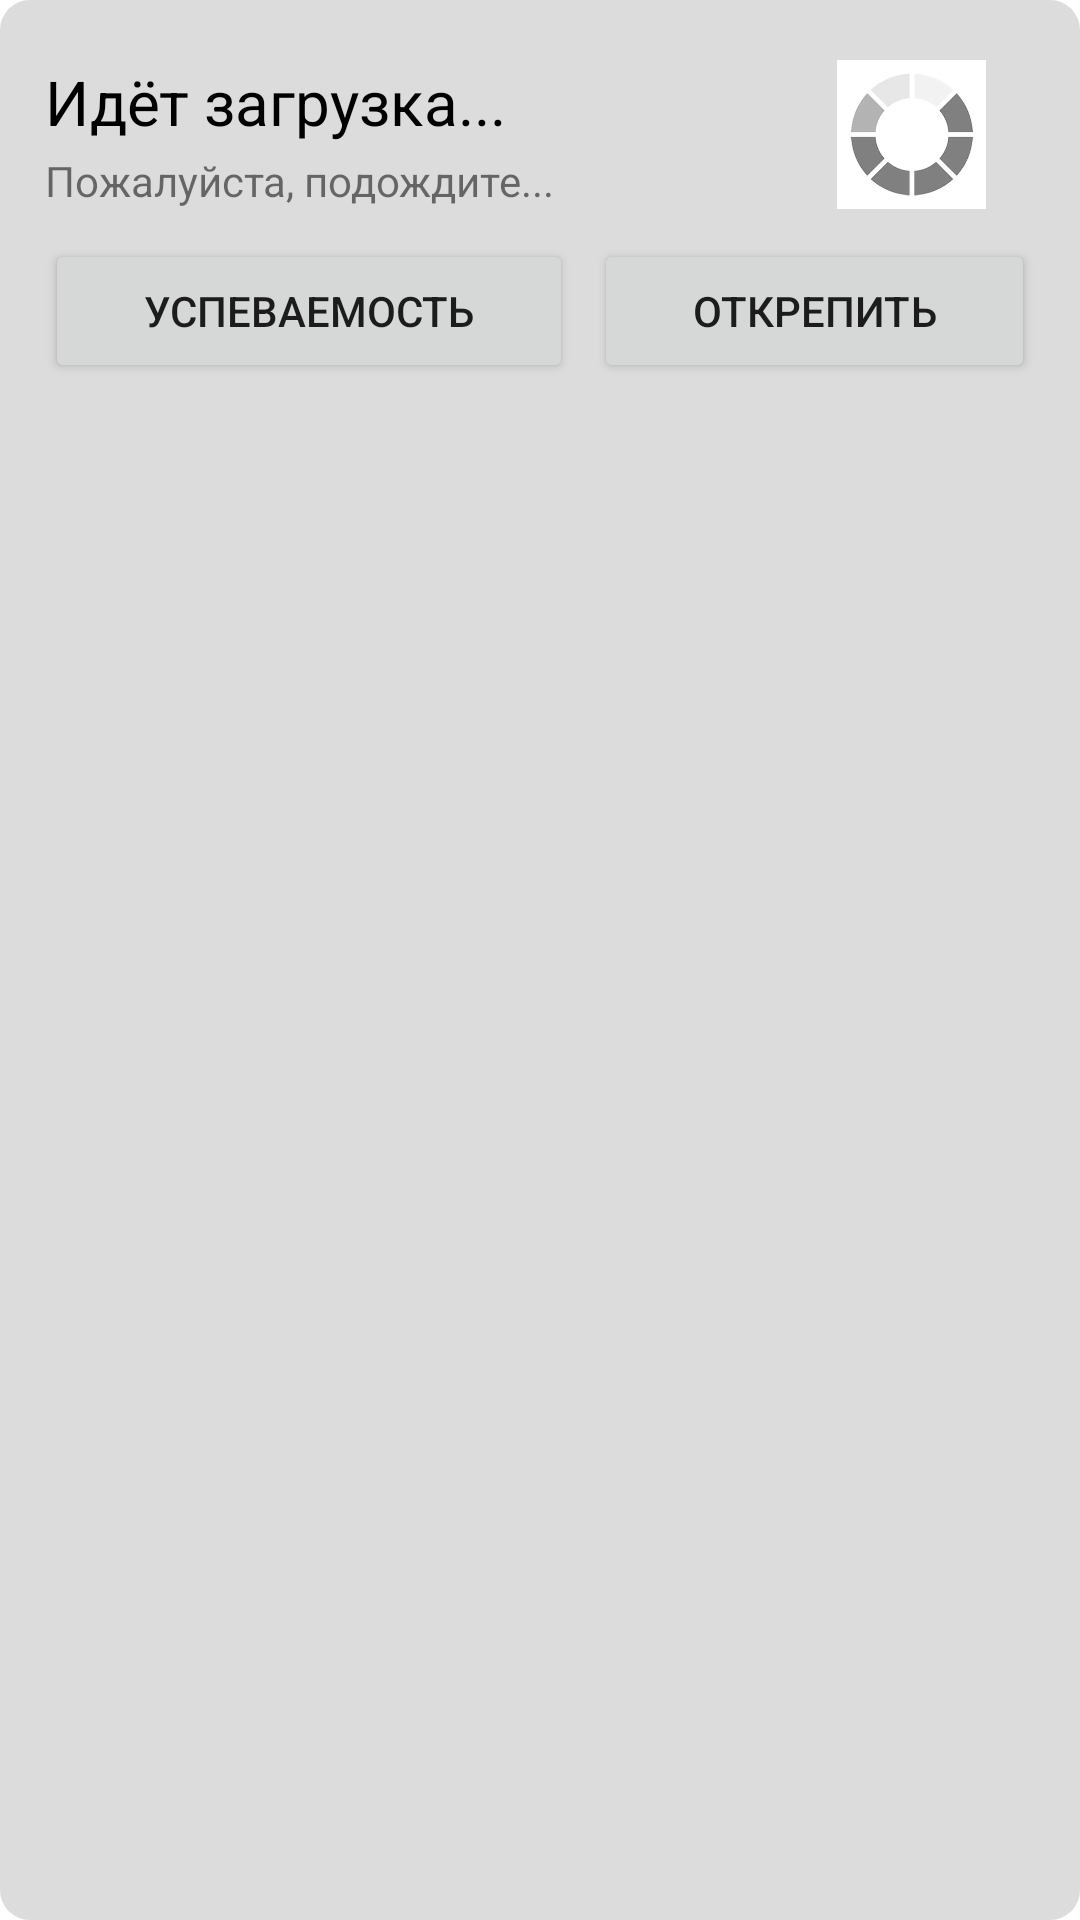

Icon bounding boxes for this 1080px×1920px phone screenshot, format (x1, y1, x2, y2):
loading: (837, 60, 986, 209)
